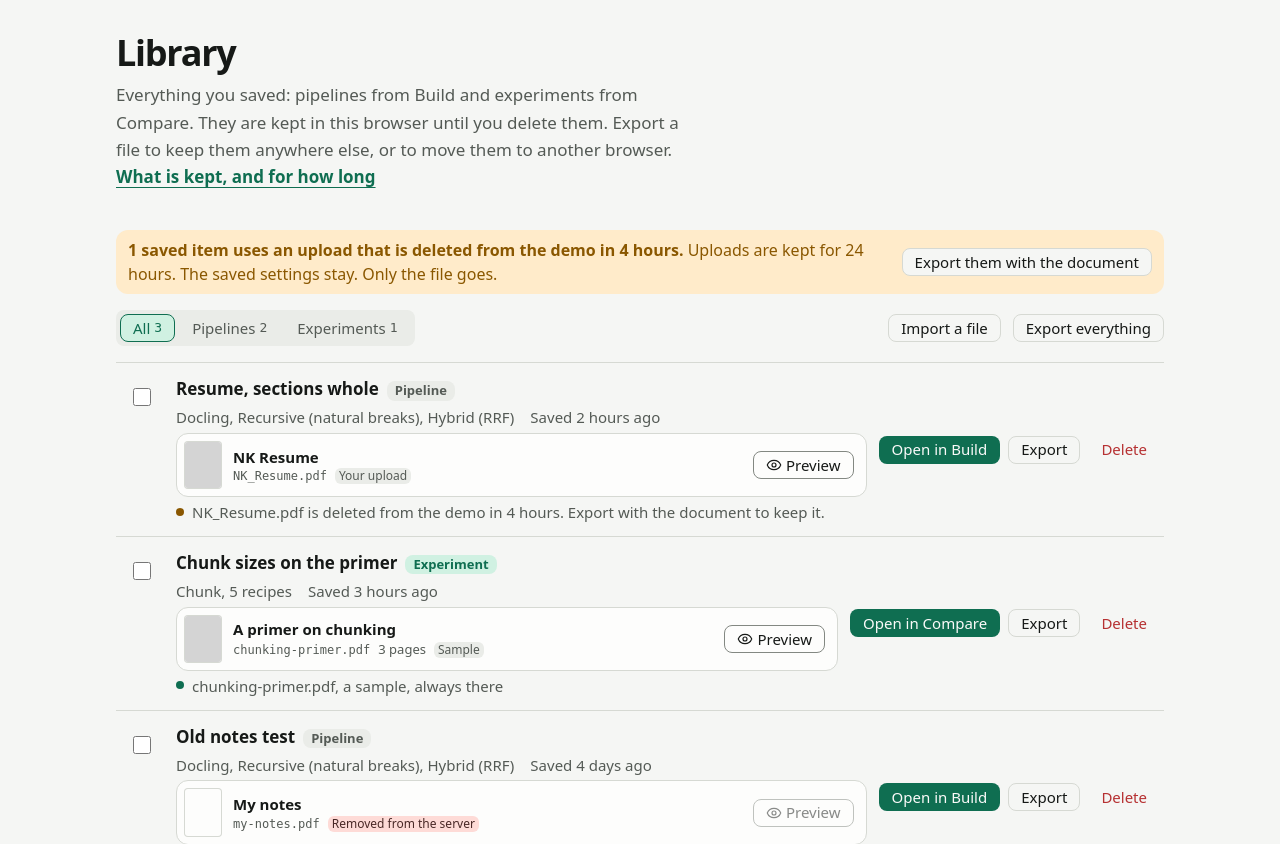
Test: Library › exports one item with its document as one file through a Blob
Expected: the text "deleted from the demo in" is shown, x1=192 y1=502 x2=825 y2=522
What coordinates should you click on to do the following:
click the button "Export" in the row of "NK Resume"
I would click on:
 (1044, 450)
Its box is x1=1008 y1=436 x2=1080 y2=464.
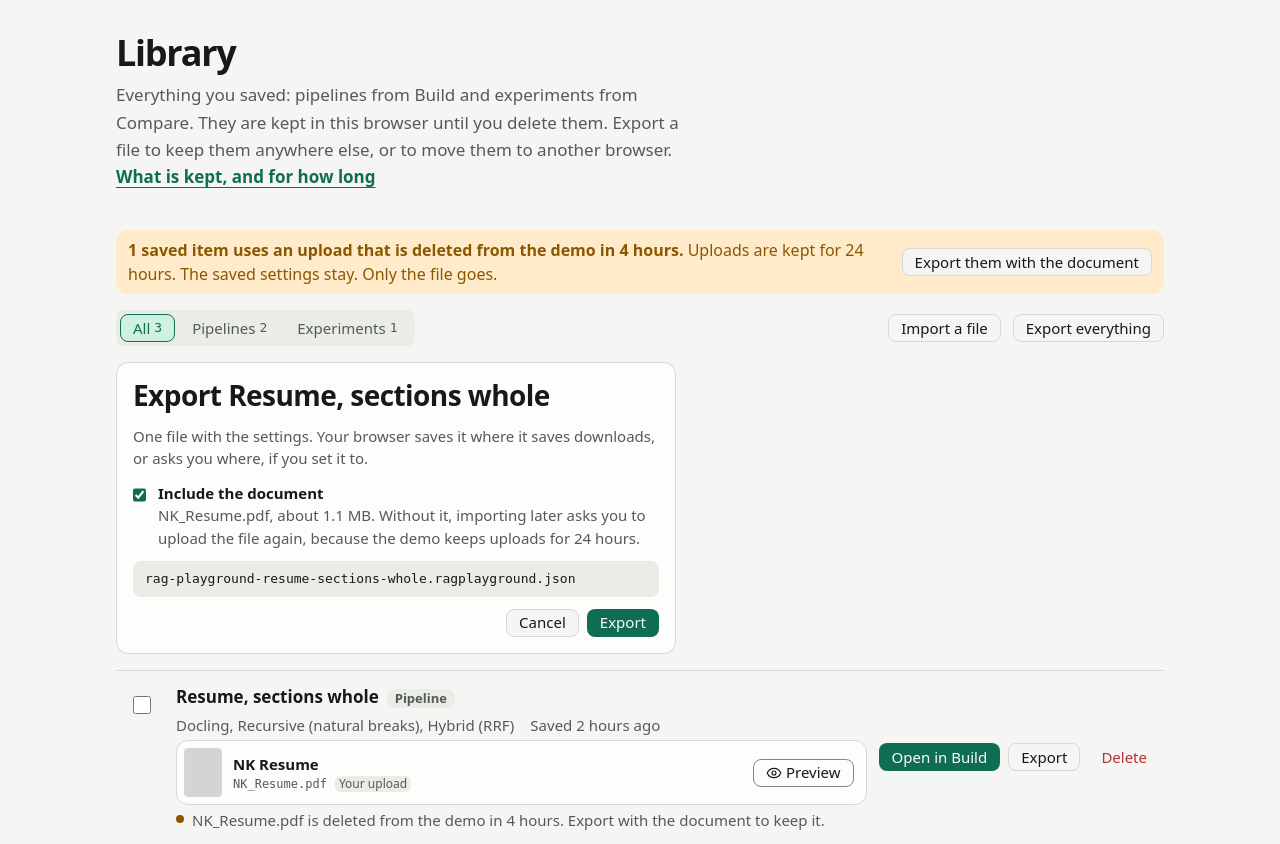
Now the checkbox labelled "Include the document" is checked, box x1=133 y1=486 x2=146 y2=504
What coordinates should you click on to do the following:
click the button "Export" below "1.1 MB"
I would click on:
 (623, 623)
Its box is x1=587 y1=609 x2=659 y2=637.
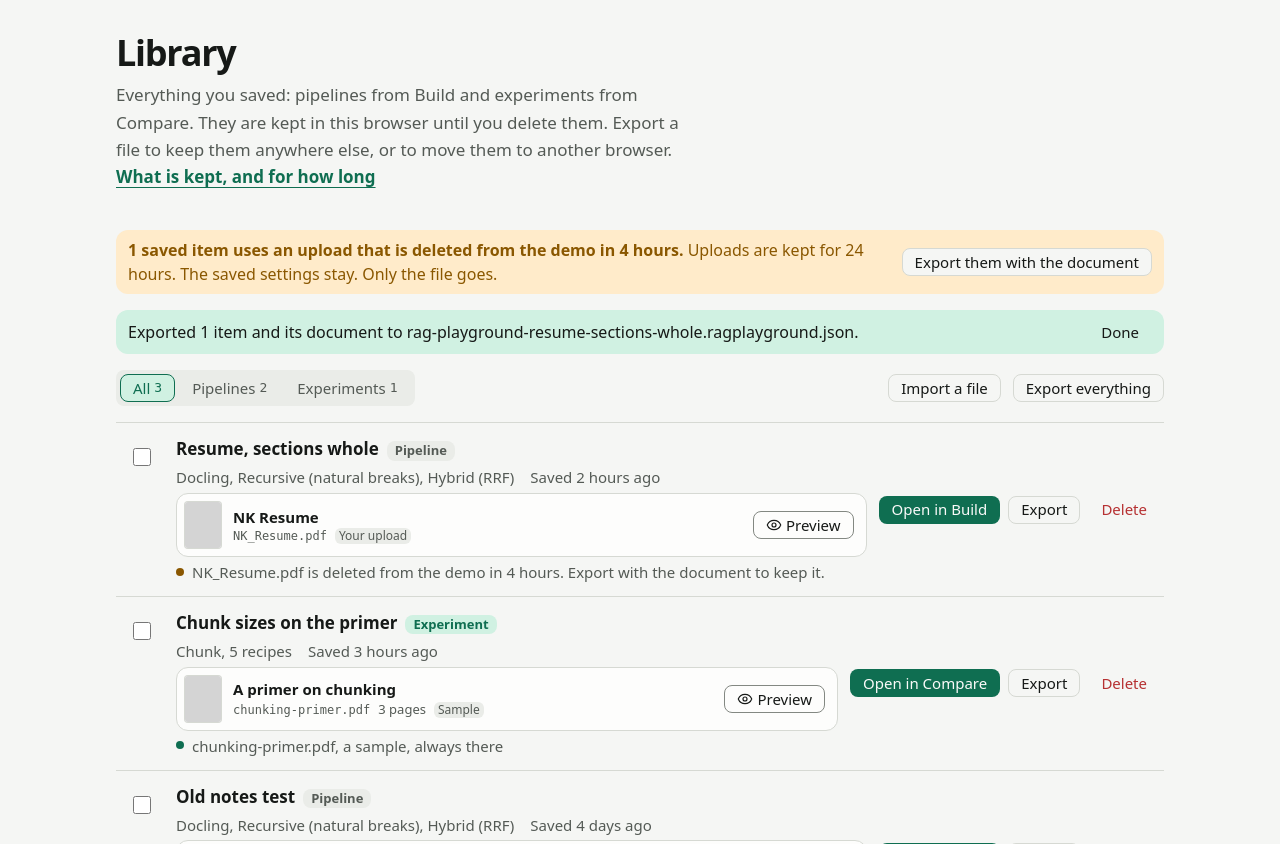
Now the text "Exported 1 item and its document to rag-playground-resume-sections-whole.ragplayground.json." is shown, box x1=128 y1=321 x2=858 y2=343
